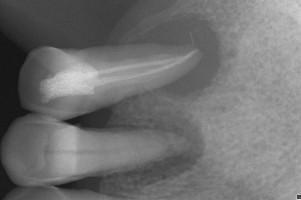Furcation Involvement: (134, 13, 220, 98), (134, 113, 205, 185)
